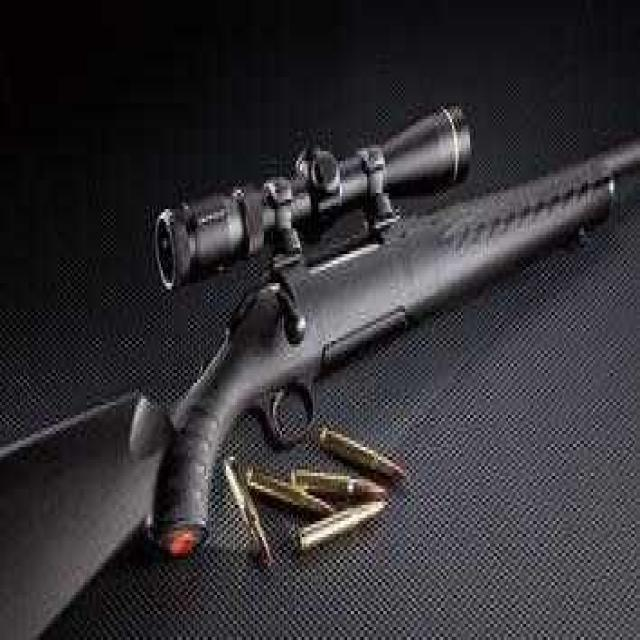heavyweapon: (1, 72, 634, 638)
